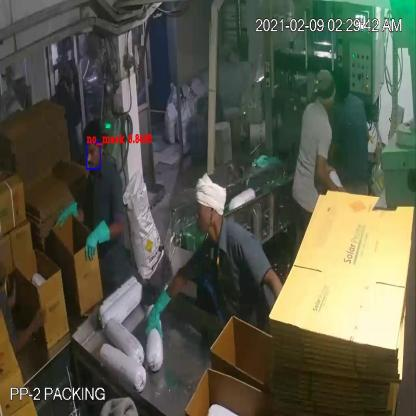glove: (140, 278, 176, 346), (78, 218, 114, 262), (55, 201, 81, 232)
no_glove: (12, 300, 52, 352), (305, 152, 350, 198)
